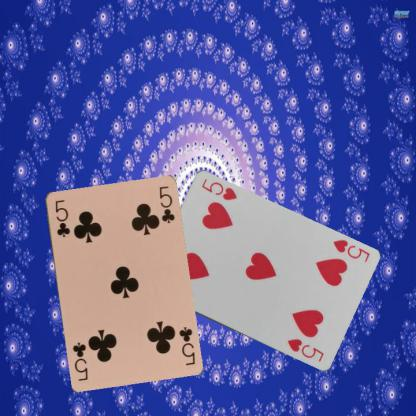5c: (176, 324, 196, 366), (52, 197, 71, 239)
5h: (330, 237, 371, 263)
